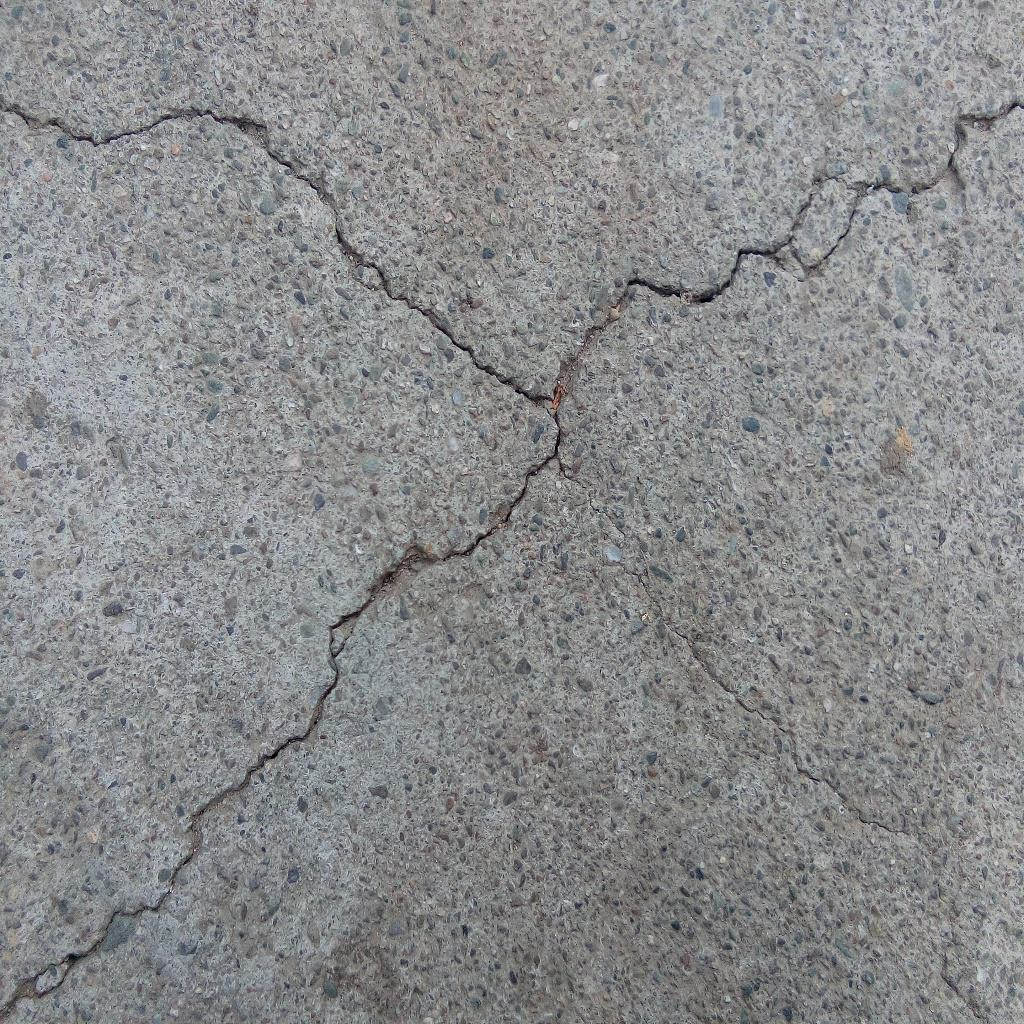Crack: (1, 416, 563, 1024), (1, 95, 555, 415), (556, 101, 1024, 407), (557, 453, 906, 833)
